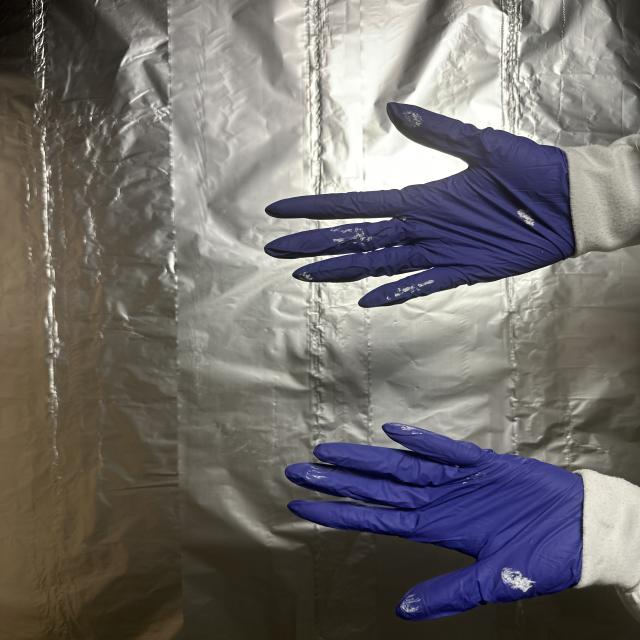gloves_contaminated: (265, 103, 575, 308), (286, 423, 586, 619)
